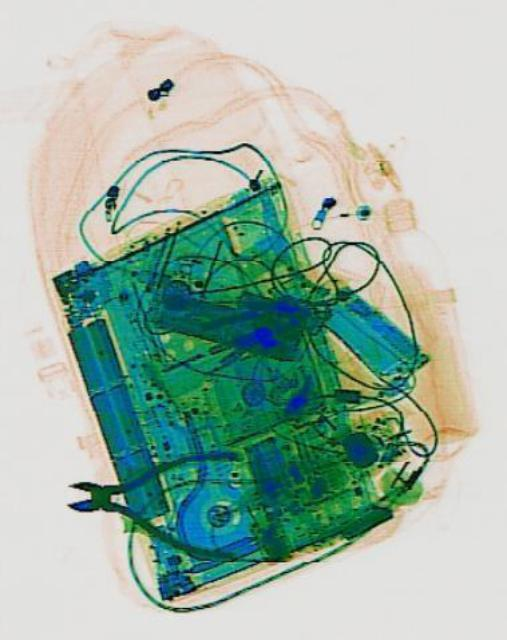Pliers: (62, 436, 238, 560)
